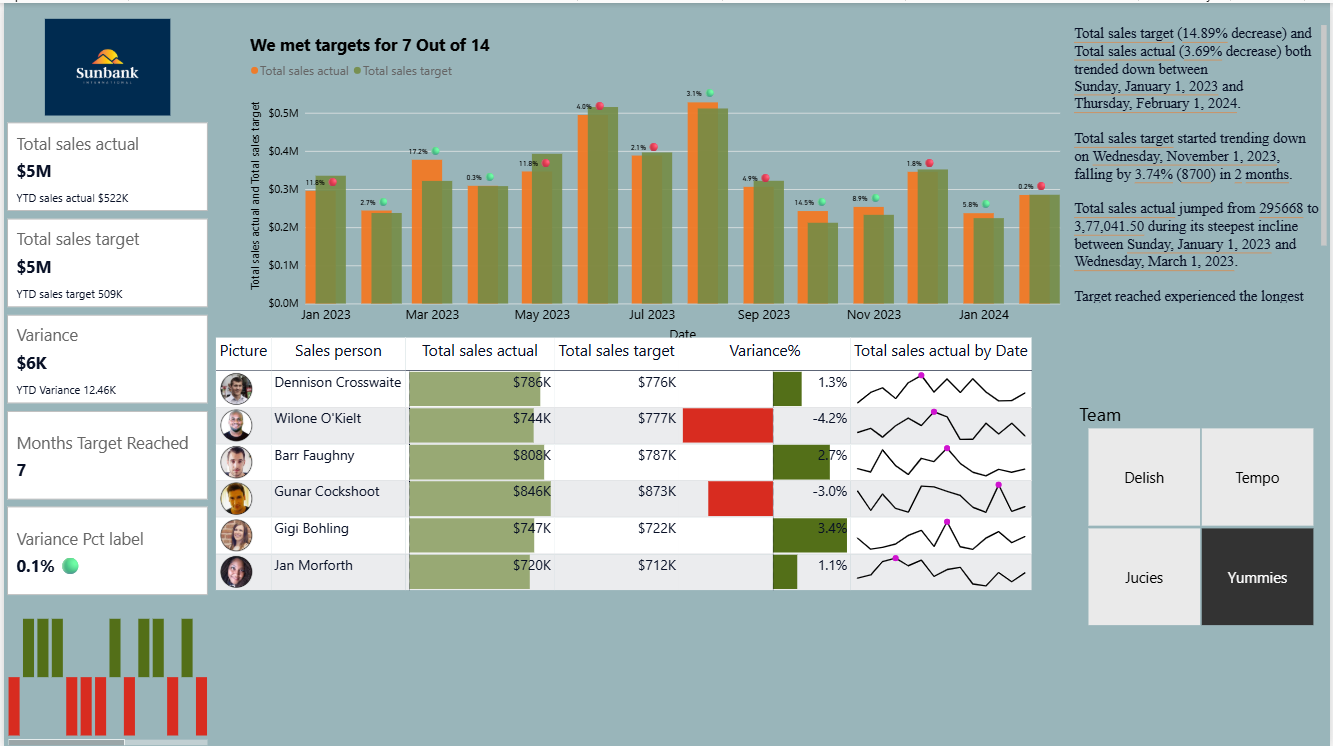

The page's visual inventory and layout, read from the dashboard file:
{"tool":"powerbi","page":{"name":"Page 1","canvas":[1920,1080],"ordinal":0},"visuals":[{"type":"cardVisual","fields":{"Data":["Actual.Total sales actual","Actual.Total sales target","Actual.Variance","Actual.Months Target Reached","Actual.Variance Pct label"]},"box":[0,168,300,696],"z":0},{"type":"columnChart","fields":{"Category":["Calendar.Date.Variation.Date Hierarchy.Year","Calendar.Date.Variation.Date Hierarchy.Quarter","Calendar.Date.Variation.Date Hierarchy.Month","Calendar.Date.Variation.Date Hierarchy.Day"],"Y":["Actual.Target reached"]},"box":[2,878,298,202],"z":1000},{"type":"clusteredColumnChart","fields":{"Category":["Calendar.Date"],"Y":["Actual.Total sales actual","Actual.Total sales target"]},"box":[351.1,43.4,1192.6,452.4],"z":2000},{"type":"slicer","fields":{"Values":["dimPeople.Team"]},"box":[1544,572,376,336],"z":3000},{"type":"tableEx","fields":{"Values":["dimPeople.Picture","dimPeople.Sales person","Actual.Total sales actual","Actual.Total sales target","Actual.Variance%","SparklineData(Actual.Total sales actual_[Calendar.Date])"]},"box":[300,480,1244,580],"z":4000},{"type":"textbox","box":[1544,28,376,412],"z":5000},{"type":"image","box":[0,18,300,150],"z":6000}]}

Visuals, with their boxes in screenshot pixels (x1, y1, x2, y2), scaled from the page's 1920x1080 canvas onto the 1333x746 screenshot:
cardVisual - Actual.Total sales actual x Actual.Total sales target: left=0, top=116, right=208, bottom=597
columnChart - Calendar.Date.Variation.Date Hierarchy.Year x Calendar.Date.Variation.Date Hierarchy.Quarter: left=1, top=606, right=208, bottom=745
clusteredColumnChart - Calendar.Date x Actual.Total sales actual: left=244, top=30, right=1072, bottom=342
slicer - dimPeople.Team: left=1072, top=395, right=1332, bottom=627
tableEx - dimPeople.Picture x dimPeople.Sales person: left=208, top=332, right=1072, bottom=732
textbox: left=1072, top=19, right=1332, bottom=304
image: left=0, top=12, right=208, bottom=116
